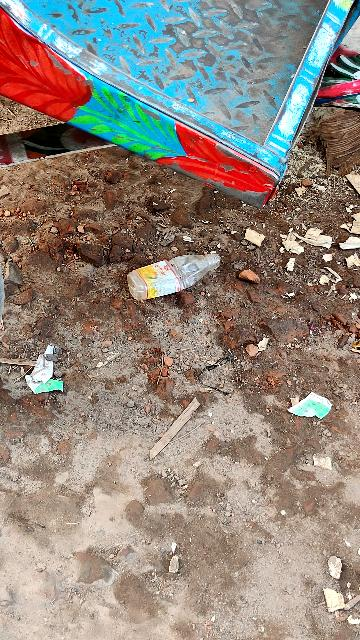bottle: (113, 253, 254, 304)
